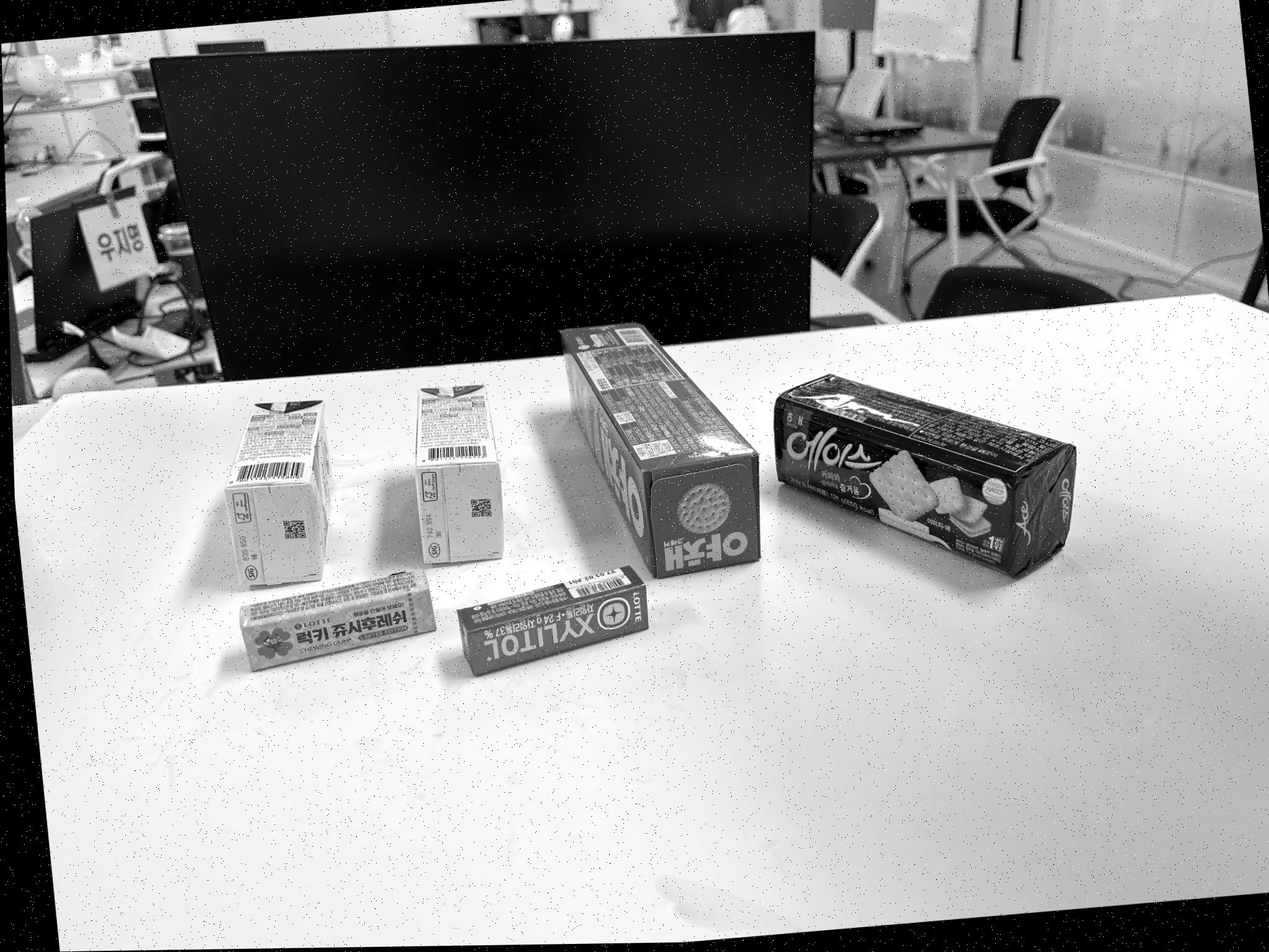cracker_ace: (769, 367, 1076, 587)
cracker_vege: (560, 322, 764, 579)
gum_green: (458, 564, 650, 676)
gum_yellow: (238, 567, 436, 673)
milk_blue: (224, 398, 333, 586)
milk_green: (414, 383, 503, 565)
